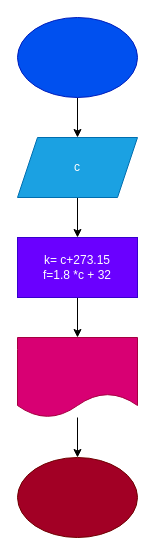
Some shapes in this 155 by 555 pixel diagram are drawn without their labels. Each missing label, with the centre of its shape:
"f,k" goes at (77,377).
"inicio" goes at (77,57).
